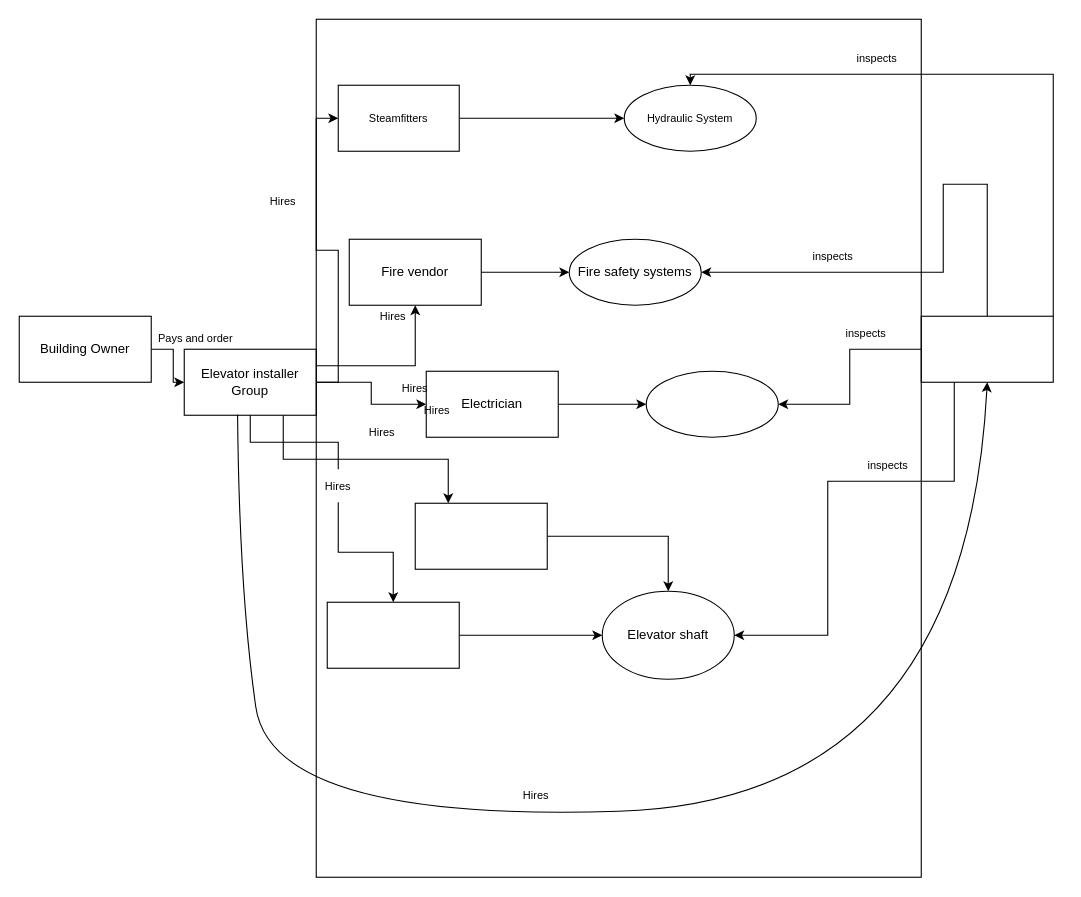
The diagram is 1081 pixels wide and 897 high, and some of its shapes have lost their labels. The shapes that lost their labels are listed below. From the top down, each one's centre as x and y in pixels, then its label:
At point (986, 348): "Inspectot".
At point (711, 403): "Electrical wiring".
At point (480, 535): "Mason".
At point (392, 634): "Steelworker".
